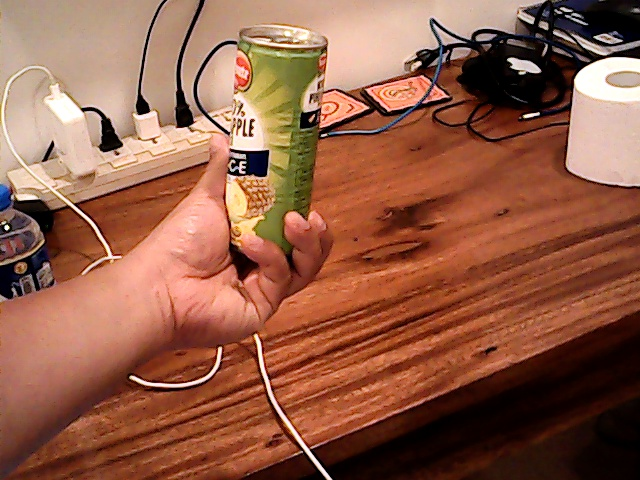Pine Juice: (219, 22, 330, 242)
